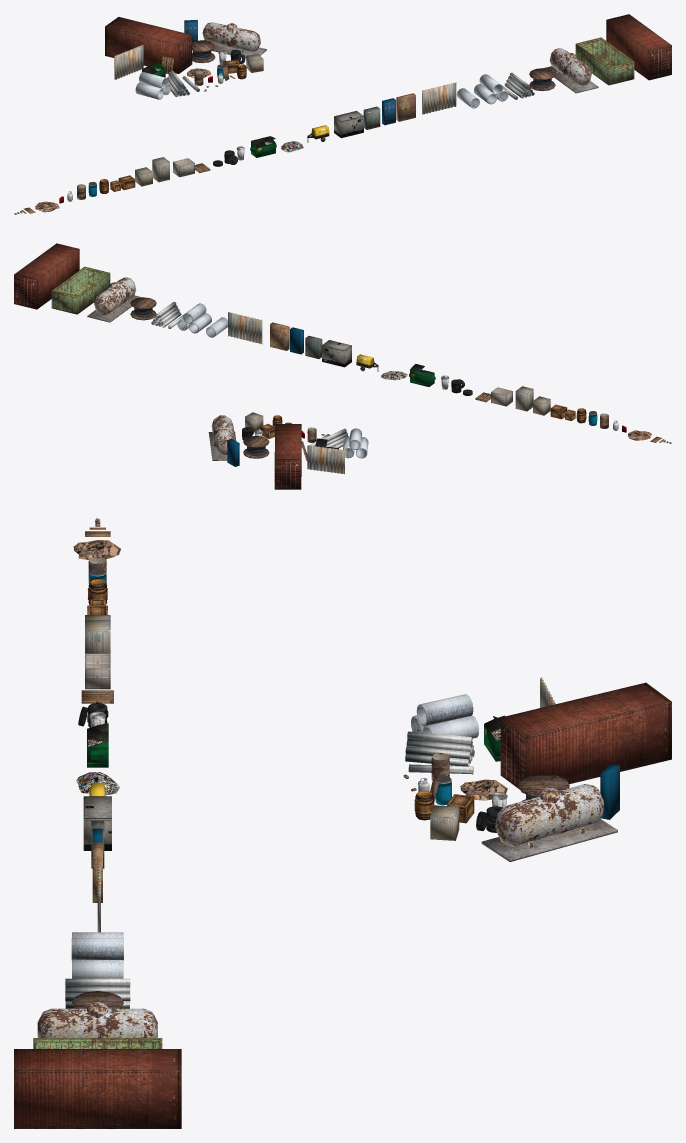
File: industrial.fbx
3 renders of one model, top to bottom at view 1: azimuth 30°, elevation 25°; view 2: azimuth 150°, elevation 25°; view 3: azimuth 270°, elevation 25°, orthographic. The views are drawn at different scales.
Visible parts, largest first — view 1: Showcase, CargoContainer, TrashContainer, PropaneTank, MetalSheet, GeneratorUnit, ConcretePipePile, Spool, Locker2, MetalPipePile, CrateMetal2, TransformerBox (+3 smaller); view 2: Showcase, CargoContainer, TrashContainer, PropaneTank, MetalSheet, GeneratorUnit, ConcretePipePile, Spool, Locker2, MetalPipePile, CrateMetal2; view 3: Showcase, CargoContainer, PropaneTank, ConcretePipePile, TrashContainer, MetalPipePile, GeneratorUnit, Crate, CrateMetal2.
Part boxes in pixels (x1=…): Showcase: x1=105, y1=17, x2=266, y2=99; CargoContainer: x1=606, y1=14, x2=671, y2=80; TrashContainer: x1=575, y1=37, x2=634, y2=85; PropaneTank: x1=543, y1=48, x2=598, y2=93; MetalSheet: x1=422, y1=82, x2=456, y2=114; GeneratorUnit: x1=334, y1=111, x2=363, y2=138; ConcretePipePile: x1=474, y1=74, x2=508, y2=104; Spool: x1=529, y1=68, x2=555, y2=91; Locker2: x1=396, y1=93, x2=415, y2=121; MetalPipePile: x1=504, y1=72, x2=534, y2=98; CrateMetal2: x1=152, y1=157, x2=169, y2=182; TransformerBox: x1=363, y1=106, x2=380, y2=129; Showcase: x1=208, y1=412, x2=368, y2=489; CargoContainer: x1=14, y1=243, x2=79, y2=309; TrashContainer: x1=51, y1=266, x2=110, y2=314; PropaneTank: x1=87, y1=277, x2=141, y2=322; MetalSheet: x1=228, y1=312, x2=262, y2=344; GeneratorUnit: x1=322, y1=340, x2=351, y2=367; ConcretePipePile: x1=177, y1=303, x2=211, y2=333; Spool: x1=130, y1=297, x2=156, y2=320; Locker2: x1=270, y1=322, x2=289, y2=350; MetalPipePile: x1=151, y1=301, x2=181, y2=327; CrateMetal2: x1=515, y1=386, x2=533, y2=411; Showcase: x1=403, y1=677, x2=671, y2=861; CargoContainer: x1=14, y1=1049, x2=181, y2=1128; PropaneTank: x1=37, y1=1002, x2=157, y2=1037; ConcretePipePile: x1=71, y1=938, x2=123, y2=978; TrashContainer: x1=33, y1=1038, x2=162, y2=1048; MetalPipePile: x1=65, y1=978, x2=130, y2=1008; GeneratorUnit: x1=83, y1=796, x2=111, y2=850; Crate: x1=85, y1=653, x2=110, y2=689; CrateMetal2: x1=85, y1=619, x2=110, y2=653.
Bounding box in the file's own units: 5590 × 250 × 2552.
Materials: 2 (2 with a texture image).
